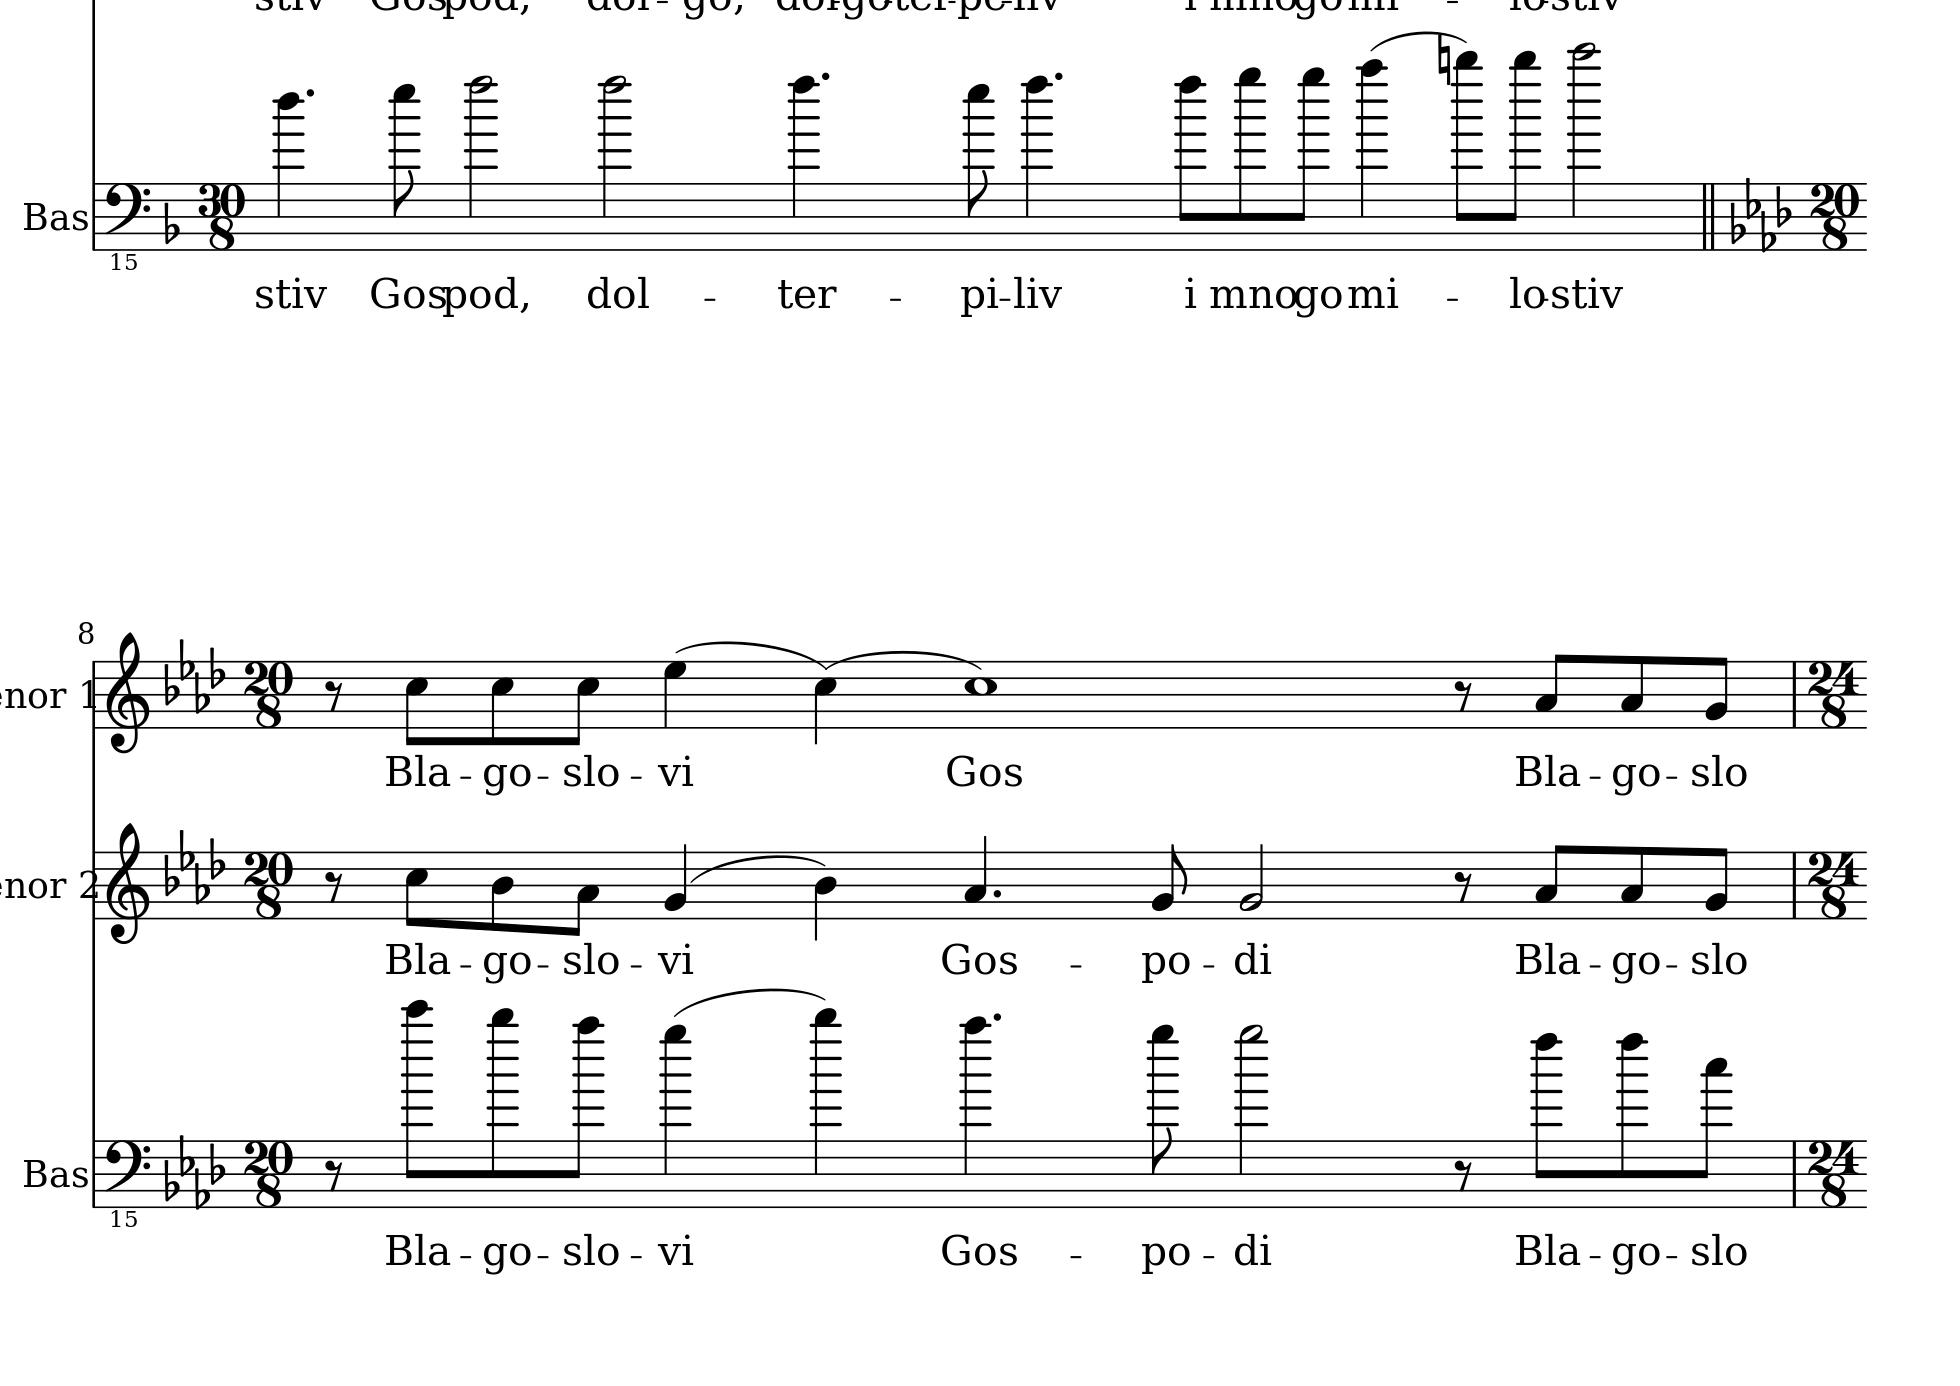0: (267, 847, 294, 886), (1833, 181, 1863, 216), (267, 657, 294, 694), (220, 180, 246, 214), (268, 1137, 294, 1171)
1_5: (963, 658, 999, 730)
2: (1806, 850, 1834, 885), (1806, 1138, 1834, 1173), (1806, 658, 1833, 694), (243, 847, 268, 885), (1809, 181, 1836, 216), (243, 658, 268, 694), (241, 1137, 267, 1173)
2_2: (1239, 841, 1266, 919)
2_20: (463, 73, 499, 252), (595, 73, 631, 250)
3: (196, 181, 220, 216)
4: (1833, 1138, 1863, 1174), (1833, 658, 1861, 694), (1833, 850, 1861, 885)
4_18: (271, 91, 306, 253)
4_2: (663, 841, 688, 919)
4_20: (787, 73, 820, 252), (1023, 73, 1054, 252)
4_3: (961, 832, 990, 919)
4_4: (813, 849, 838, 940)
4_5: (813, 658, 838, 745)
4_7: (661, 658, 688, 730)
8: (1818, 693, 1851, 729), (1818, 883, 1851, 919), (1818, 1171, 1851, 1207), (253, 883, 283, 919), (253, 1171, 283, 1207), (207, 216, 237, 250), (1821, 214, 1849, 250), (255, 694, 282, 730), (76, 616, 94, 646)
8_17: (1695, 1057, 1734, 1209)
8_19: (963, 82, 996, 252), (390, 82, 421, 252)
8_2: (1152, 841, 1188, 919), (1704, 655, 1729, 730), (1704, 844, 1729, 919)
8_20: (1173, 73, 1209, 253), (1530, 1032, 1566, 1209), (1614, 1030, 1650, 1207)
8_3: (565, 849, 600, 937), (1533, 841, 1569, 921), (1534, 652, 1569, 730), (1620, 843, 1647, 921), (1620, 652, 1645, 730)
8_4: (489, 850, 514, 934)
8_5: (567, 658, 601, 745), (487, 658, 514, 748), (403, 658, 430, 747), (403, 850, 430, 928)
A_F: (163, 634, 226, 714), (163, 825, 225, 904), (163, 1132, 225, 1207), (1731, 175, 1789, 253)
Bass: (21, 1153, 90, 1191), (21, 198, 88, 234)
Cclef: (1806, 850, 1858, 921), (1807, 660, 1857, 732), (1812, 181, 1860, 252)
Double_barline: (1699, 181, 1719, 250)
Fclef: (102, 1137, 151, 1209), (102, 180, 150, 252)
Flat: (162, 199, 181, 244)
Gclef: (103, 630, 150, 754), (105, 820, 150, 946)
Natural: (1434, 31, 1452, 88)
Rests8: (1452, 678, 1474, 712), (1452, 868, 1474, 903), (321, 1156, 343, 1191), (1452, 1156, 1474, 1191), (322, 679, 343, 712), (322, 868, 343, 901)
Single_barline: (85, 850, 103, 918), (87, 181, 103, 250), (1788, 661, 1803, 727), (1788, 1141, 1803, 1207), (87, 658, 100, 729), (1788, 852, 1801, 919), (88, 1138, 100, 1207)
Slur: (690, 852, 823, 880), (1369, 30, 1470, 51)
TimeSig: (244, 1138, 297, 1207), (244, 658, 295, 727), (244, 850, 295, 919), (1809, 1138, 1857, 1207), (196, 181, 244, 249)
dot: (817, 69, 832, 84), (303, 85, 316, 100), (990, 1009, 1003, 1024), (990, 886, 1003, 898)
